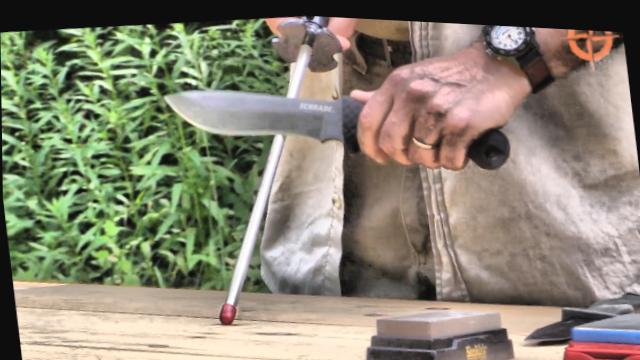knife: (152, 46, 520, 204)
